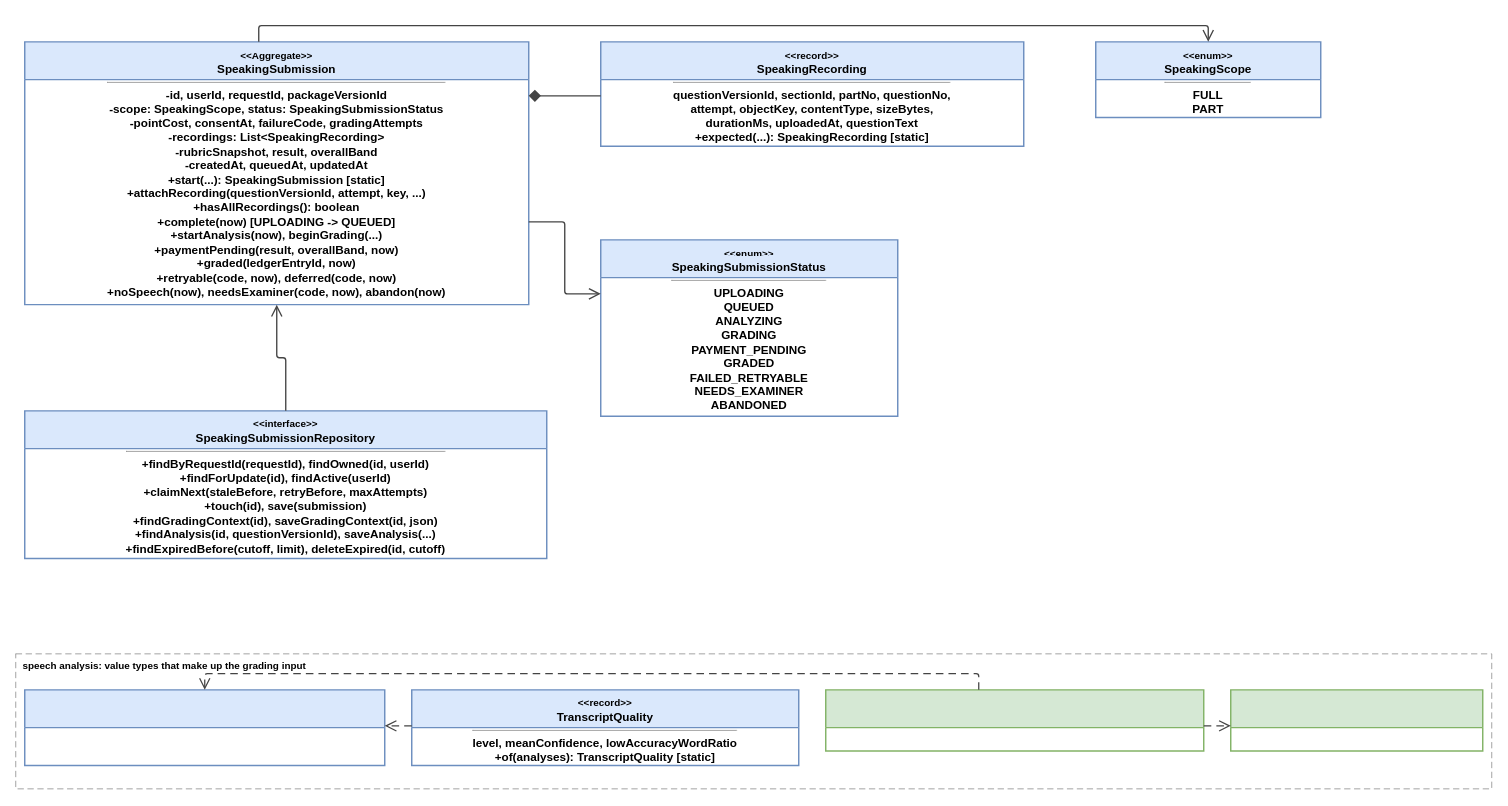
The diagram is 1508 pixels wide and 806 high, and some of its shapes have lost their labels. Each missing label, with the centre of its shape:
<<domain service>> SpeakingAnalysisSummary +of(analyses, bandMapper, limit): the point at 1014,720
<<final class>> PronunciationBandMapper INTERIM [mapping from scores to band]: the point at 1356,720
<<record>> SpeechAnalysis segments: List<SpeechSegment> +isEmpty(): boolean: the point at 204,727
